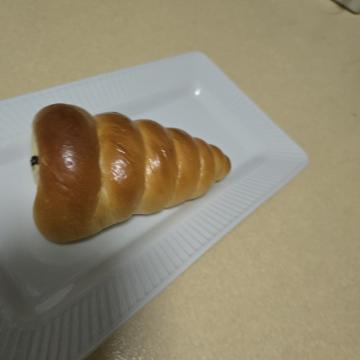cream horn: (88, 118, 258, 351)
